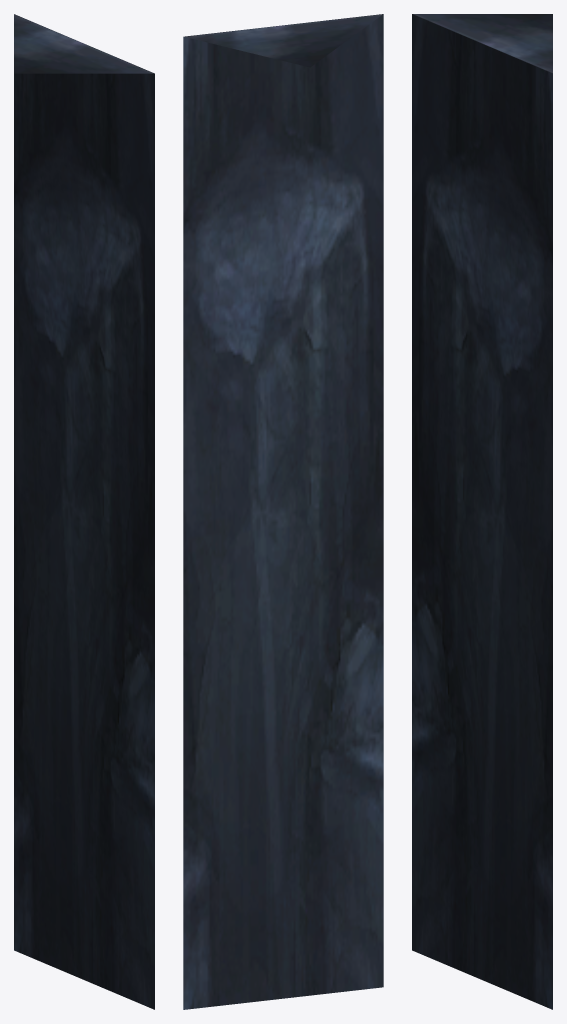
The model's file is mine_half_convex_01.fbx.
3 renders of one model, left to right at view 1: azimuth 90°, elevation 25°; view 2: azimuth 150°, elevation 25°; view 3: azimuth 270°, elevation 25°, orthographic. The views are drawn at different scales.
Parts seen in each view (by area): view 1: obj1.018; view 2: obj1.018; view 3: obj1.018.
Part boxes in pixels (x1,y1,x2,y2): obj1.018: (14, 14, 154, 1009); obj1.018: (183, 14, 383, 1009); obj1.018: (412, 14, 552, 1009).
Bounding box in the file's own units: 0.375 × 2.75 × 0.375.
